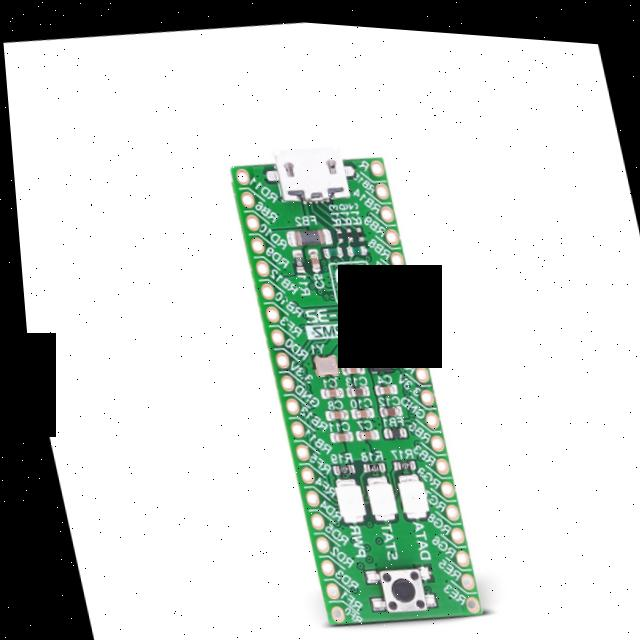2235: (355, 556, 425, 610)
LED: (387, 470, 423, 513), (323, 477, 359, 518), (357, 474, 389, 511)
capacitor 1V5: (323, 424, 346, 438), (303, 246, 318, 265), (369, 378, 389, 391), (342, 380, 361, 393), (319, 404, 339, 416), (349, 422, 367, 435), (347, 402, 365, 413), (317, 382, 335, 393), (339, 357, 355, 369), (375, 399, 393, 409)
clock Q1: (358, 342, 388, 369), (305, 349, 334, 373)
connector -5v-: (264, 138, 350, 203)
inductor F1: (287, 220, 324, 244), (377, 419, 397, 434)
resistor IR1: (286, 249, 299, 265), (341, 223, 349, 235), (331, 225, 339, 235), (352, 223, 359, 234)
